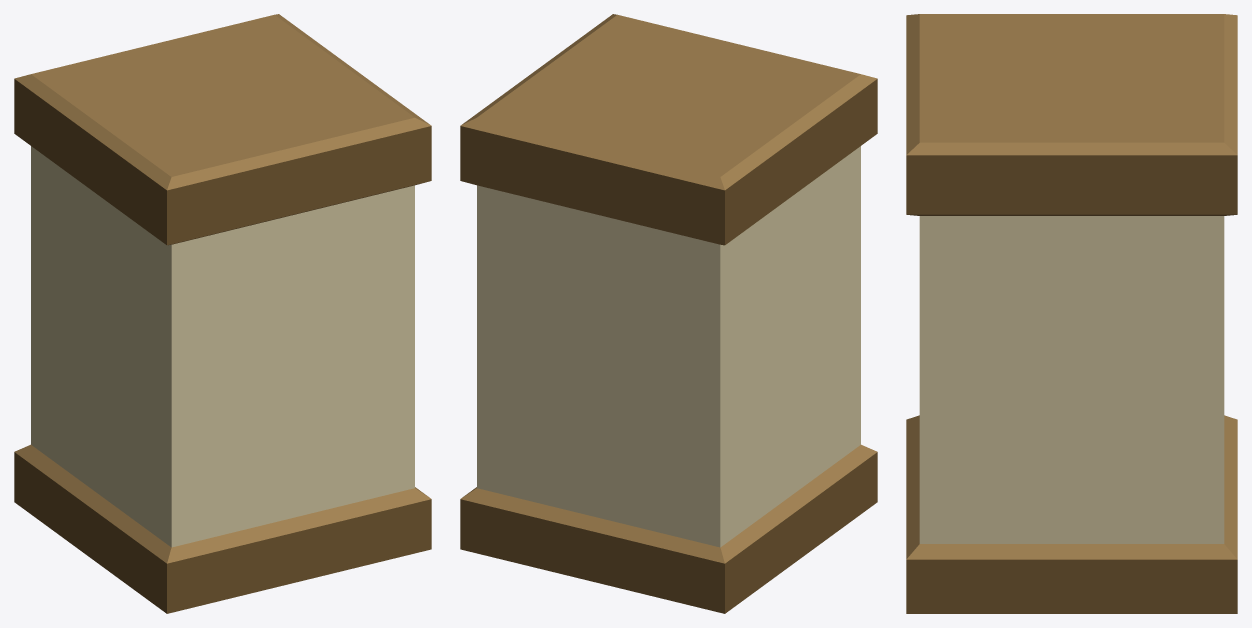
The model's file is Itr_Wall_Column_Base_01.FBX.
3 views of the same model, side by side, from view 1: azimuth 30°, elevation 25°; view 2: azimuth 150°, elevation 25°; view 3: azimuth 270°, elevation 25° (orthographic). The views are drawn at different scales.
Parts seen in each view (by area): view 1: Itr_Wall_Column_Base_01; view 2: Itr_Wall_Column_Base_01; view 3: Itr_Wall_Column_Base_01.
Boxes of the visible parts, x1,y1,x2,y2 form: Itr_Wall_Column_Base_01: (14,14,431,613); Itr_Wall_Column_Base_01: (460,14,877,613); Itr_Wall_Column_Base_01: (906,14,1237,613).
Size of the model in its own units: 27.56 by 42.76 by 27.56.
